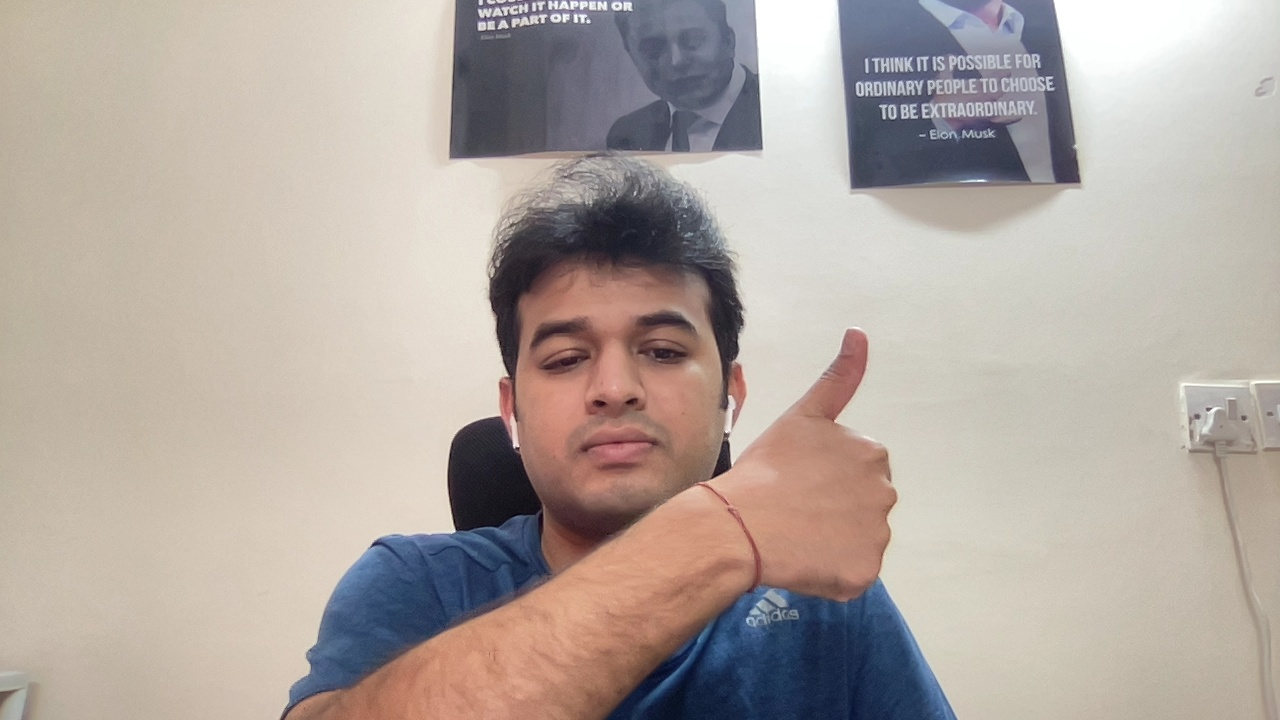up: (751, 312, 908, 614)
